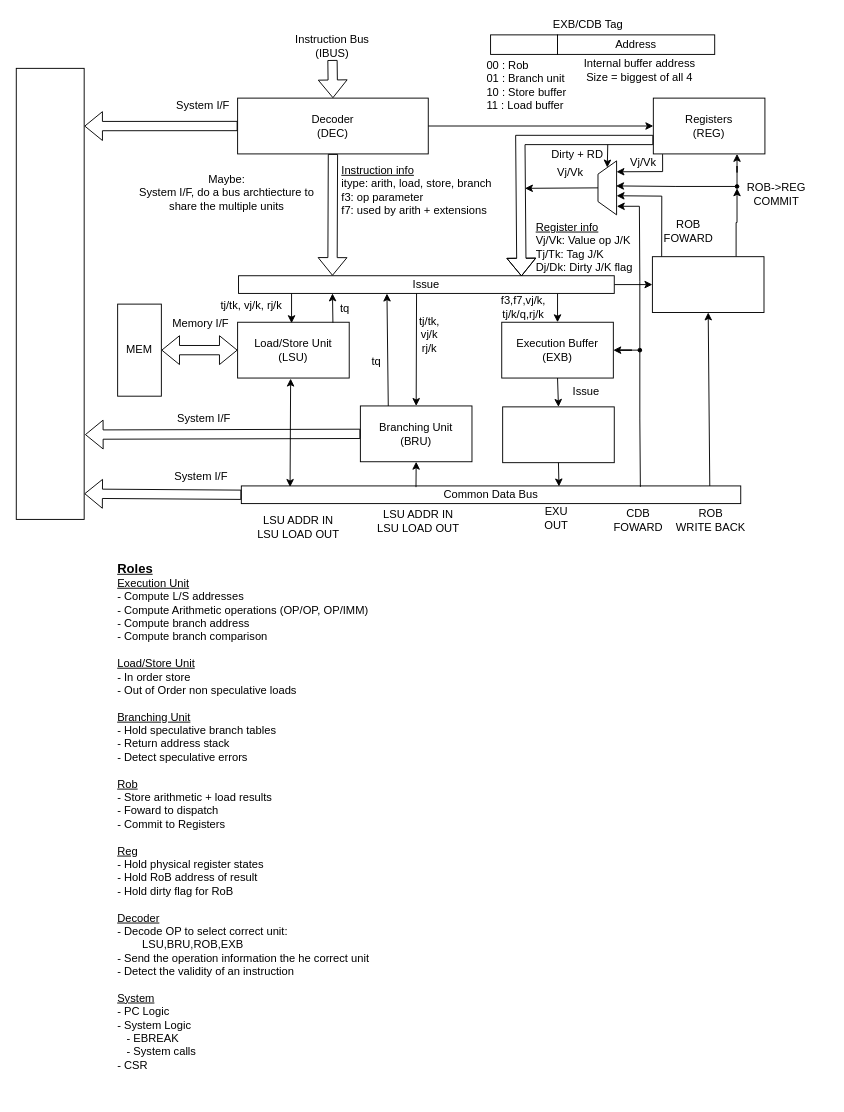
The diagram is 844 pixels wide and 1112 high, and some of its shapes have lost their labels. Here are the shapes that lost their labels. From the top down, the centre of each, then its label:
At pixel 524 44: "Dest".
At pixel 49 293: "System".
At pixel 707 284: "Re-order Buffer (ROB)".
At pixel 558 434: "Execution Unit (EXU)".
